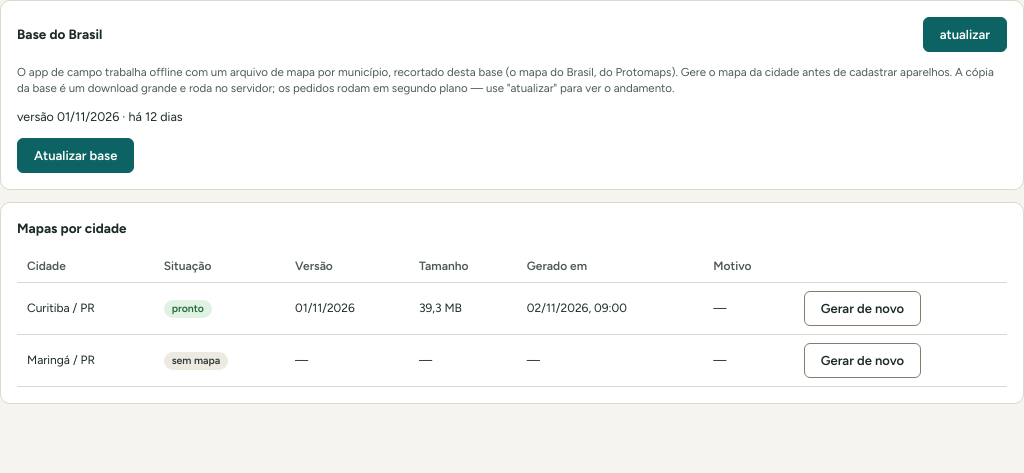
Scenario: FieldMaps › cópia em curso: a recusa aparece e nada é relido como sucesso
Click the button "Atualizar base".
click(76, 155)  # box left=17, top=138, right=134, bottom=173
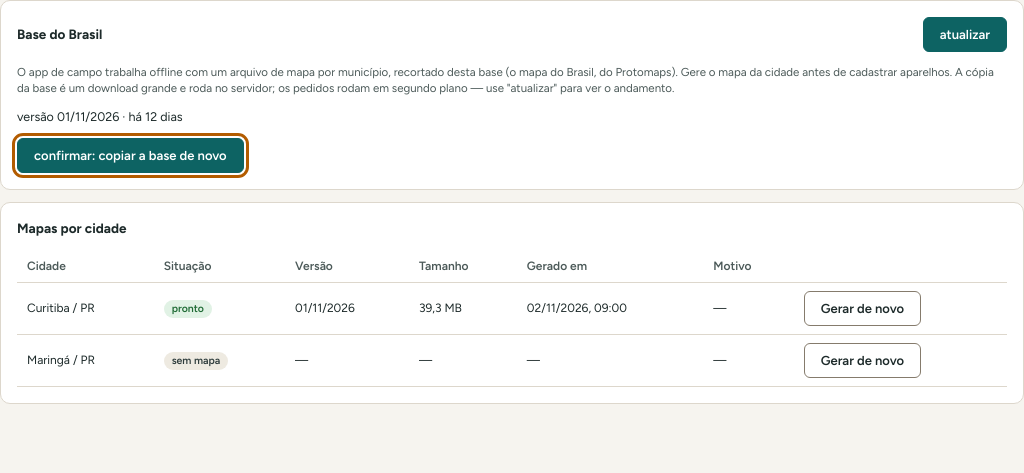
Click the button "confirmar: copiar a base de novo".
click(130, 155)  # box left=17, top=138, right=244, bottom=173
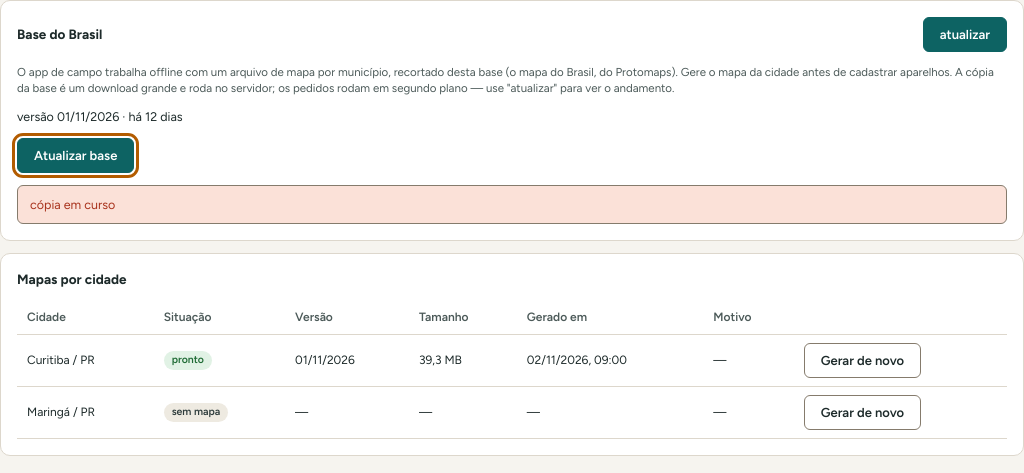
Now the message reads "cópia em curso", box left=30, top=197, right=115, bottom=212
